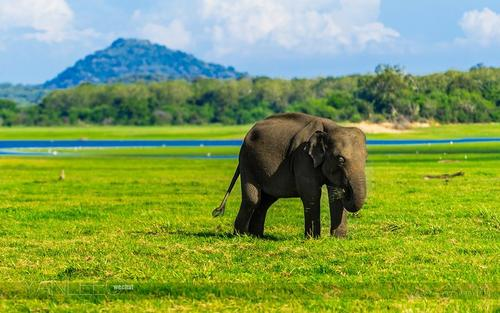elephant: (211, 115, 370, 242)
